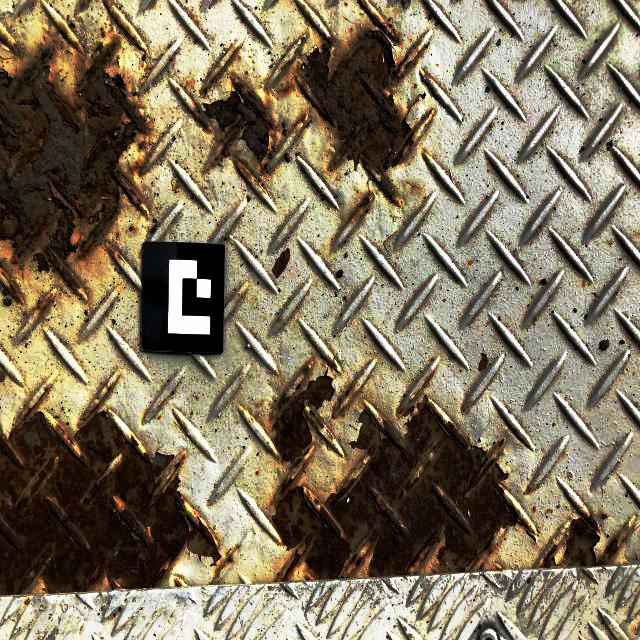Corrosion: (271, 375, 538, 581), (0, 407, 222, 596), (0, 42, 148, 298), (269, 0, 413, 196), (197, 74, 276, 175), (538, 513, 625, 568), (109, 2, 142, 47), (208, 45, 240, 83), (354, 192, 376, 222), (0, 270, 21, 301), (403, 46, 424, 74), (331, 394, 349, 419), (34, 293, 52, 314), (300, 361, 312, 384), (343, 380, 355, 399), (497, 437, 506, 449), (226, 556, 234, 563)
